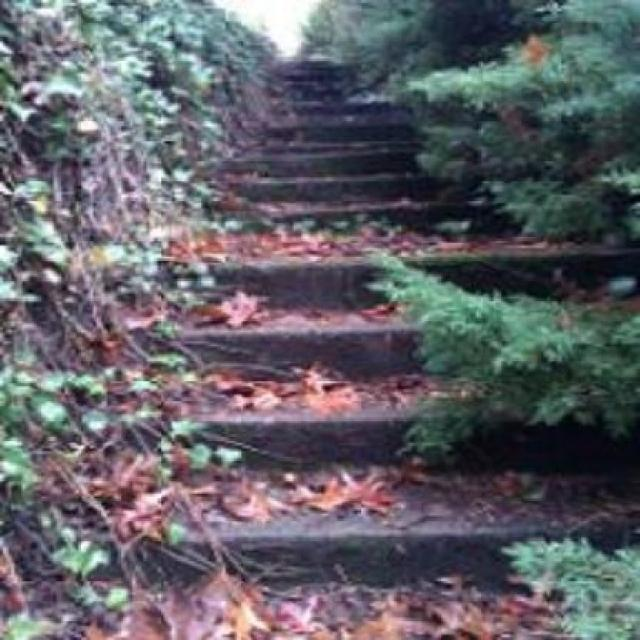stair: (138, 39, 640, 598)
